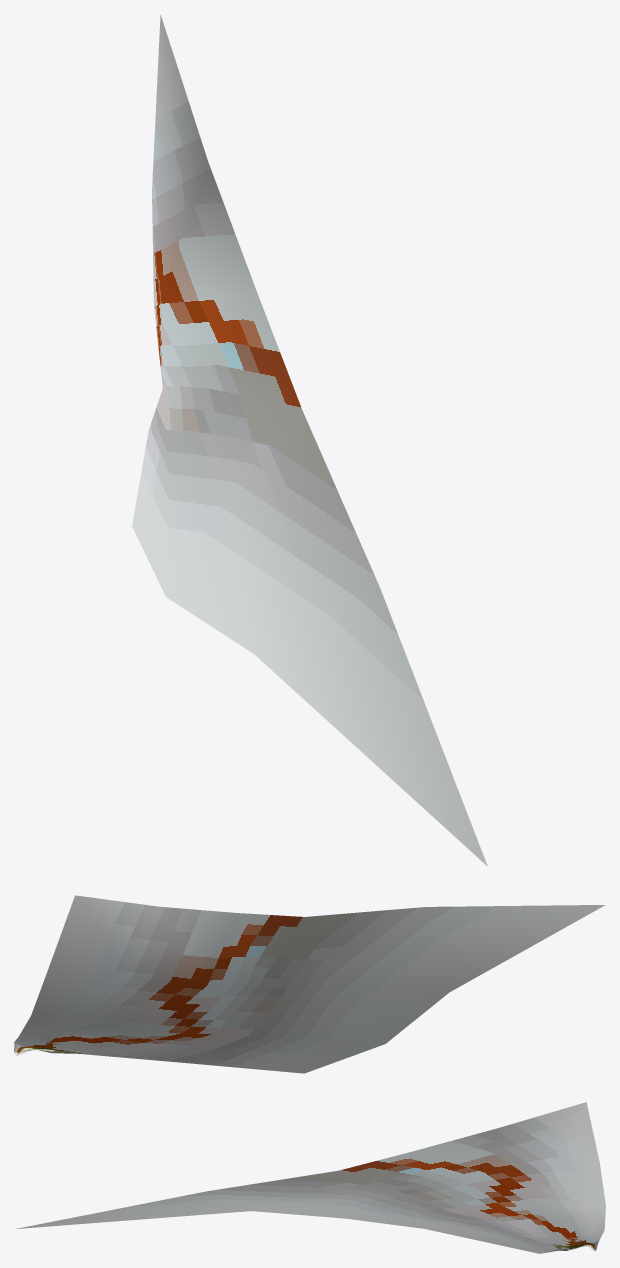
The picture shows the model from 3 angles, top to bottom: view 1: azimuth 30°, elevation 25°; view 2: azimuth 150°, elevation 25°; view 3: azimuth 270°, elevation 25°; orthographic projection. The views are drawn at different scales.
Visible parts, largest first — view 1: pflag07_0; view 2: pflag07_0; view 3: pflag07_0.
Boxes of the visible parts, x1,y1,x2,y2 form: pflag07_0: (132, 15, 487, 866); pflag07_0: (14, 895, 604, 1073); pflag07_0: (16, 1102, 605, 1253).
Bounding box in the file's own units: 36705 × 39854 × 114370.
Materials: 1 (1 with a texture image).
